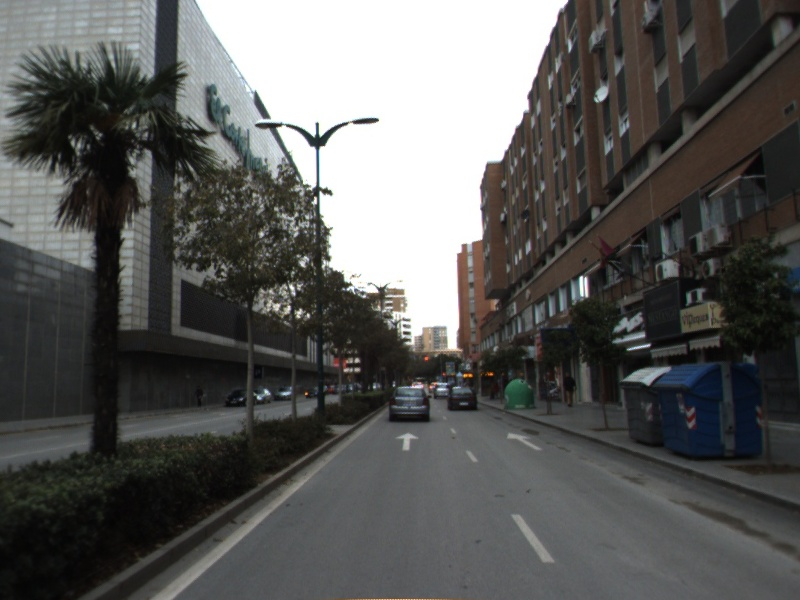STRAIGHT: (505, 430, 546, 452), (393, 430, 421, 452)
